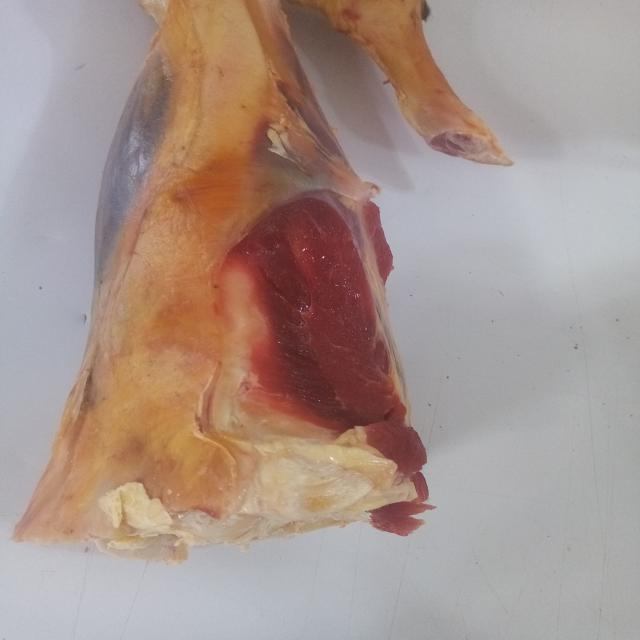beef: (52, 2, 495, 623)
